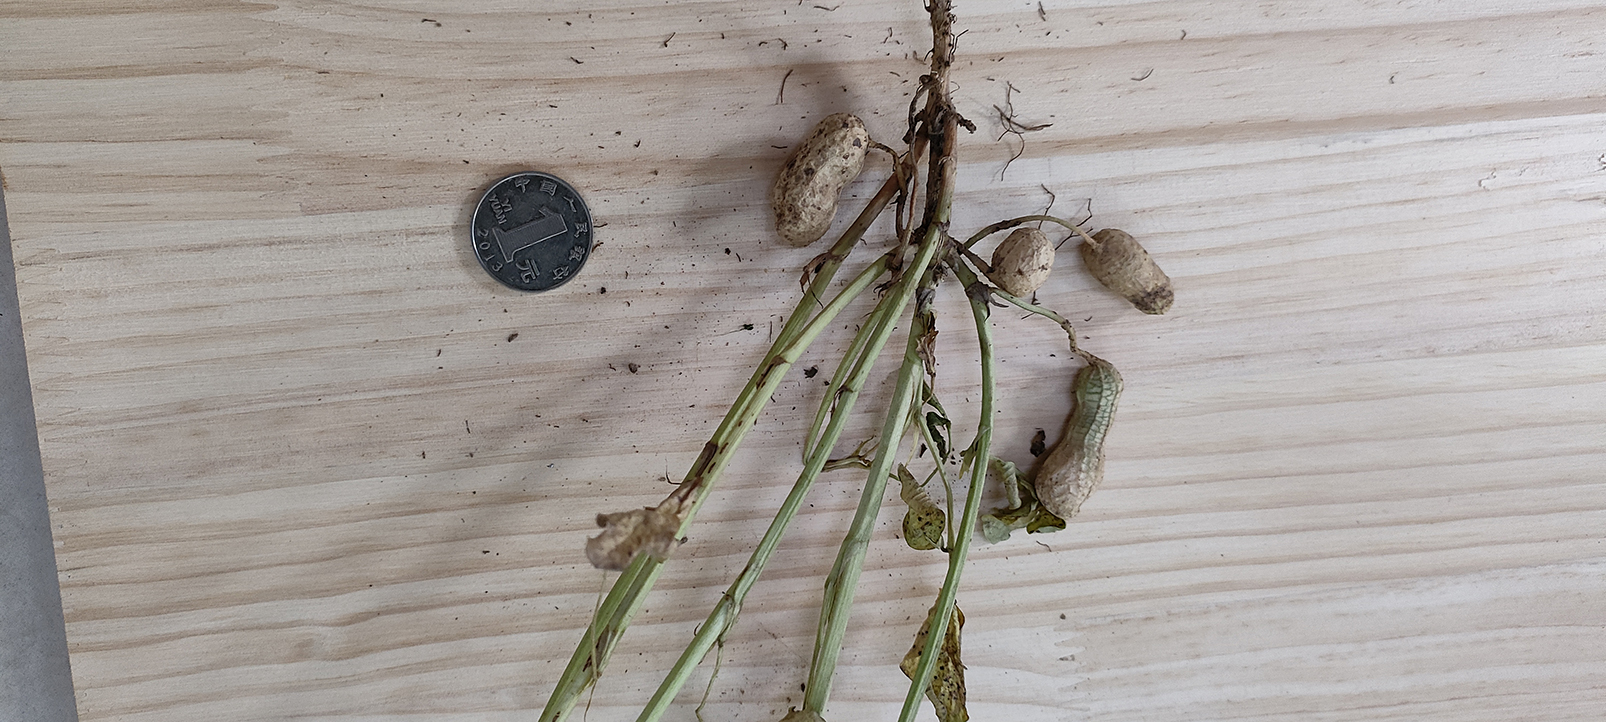h: (1032, 359, 1122, 520), (771, 108, 869, 249), (1085, 231, 1176, 316), (992, 226, 1059, 295)
